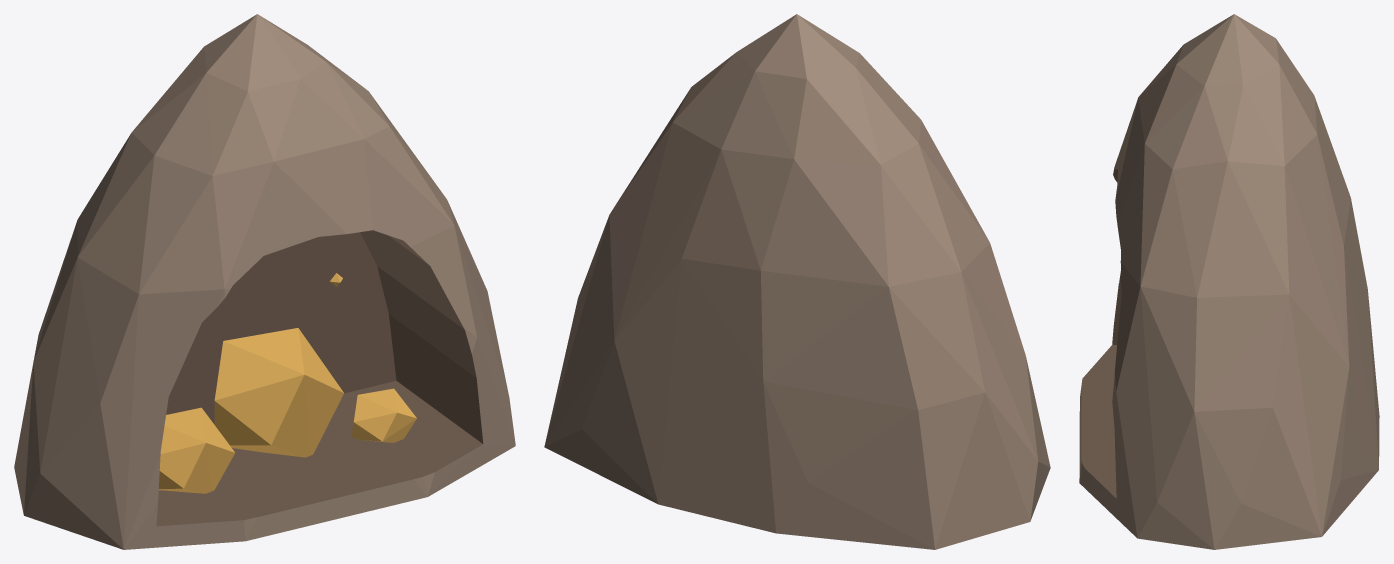
File: KANJI_31_KANE.fbx
3 views of the same model, side by side, from view 1: azimuth 30°, elevation 25°; view 2: azimuth 150°, elevation 25°; view 3: azimuth 270°, elevation 25° (orthographic). The views are drawn at different scales.
Parts seen in each view (by area): view 1: SM_KANJI_31_Kane; view 2: SM_KANJI_31_Kane; view 3: SM_KANJI_31_Kane.
Part boxes in pixels (bbox=[...]): SM_KANJI_31_Kane: bbox=[14, 14, 515, 549]; SM_KANJI_31_Kane: bbox=[544, 14, 1050, 549]; SM_KANJI_31_Kane: bbox=[1079, 14, 1379, 549].
Size of the model in its own units: 0.24 by 0.22 by 0.14.
